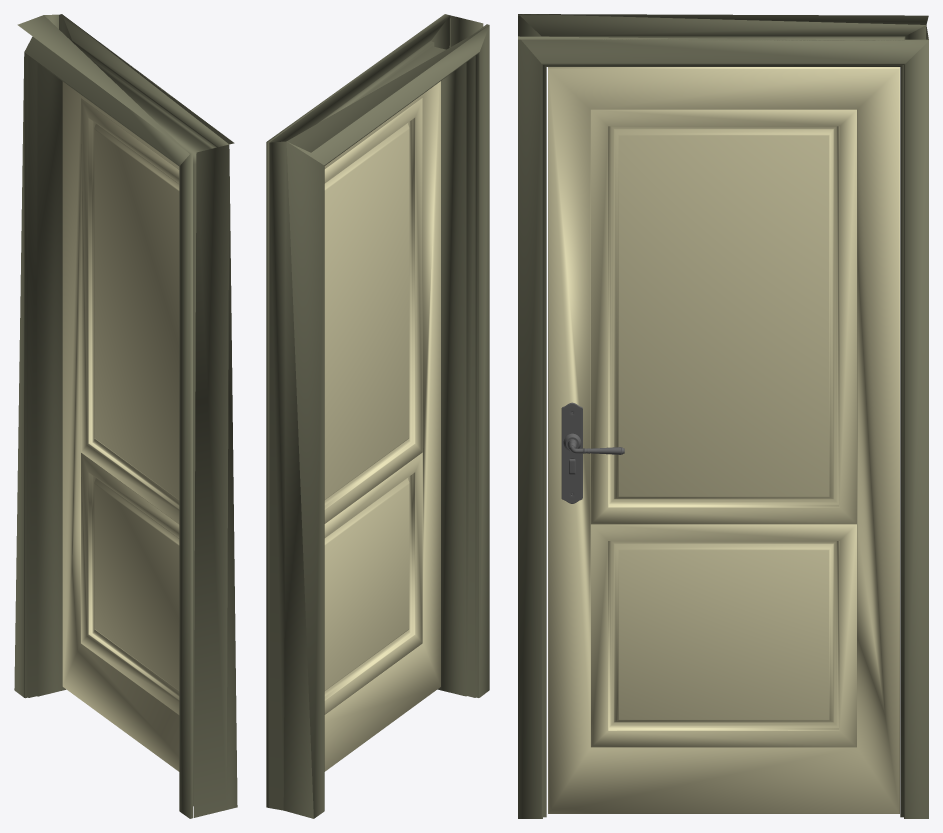
The model's file is door.fbx.
3 views of the same model, side by side, from view 1: azimuth 30°, elevation 25°; view 2: azimuth 150°, elevation 25°; view 3: azimuth 270°, elevation 25° (orthographic). The views are drawn at different scales.
Visible parts, largest first — view 1: Door_Panel001, Door_Sheet001; view 2: Door_Panel001, Door_Sheet001; view 3: Door_Sheet001, Door_Panel001, Handle001.
Part boxes in pixels (x1,y1,x2,y2): Door_Panel001: [14, 14, 237, 818]; Door_Sheet001: [62, 81, 179, 771]; Door_Panel001: [266, 14, 489, 818]; Door_Sheet001: [324, 81, 440, 771]; Door_Sheet001: [548, 67, 899, 813]; Door_Panel001: [518, 14, 928, 818]; Handle001: [561, 402, 624, 503].
Bounding box in the file's own units: 21.62 × 207 × 98.47.
